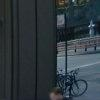Bicycle: (53, 62, 93, 96)
